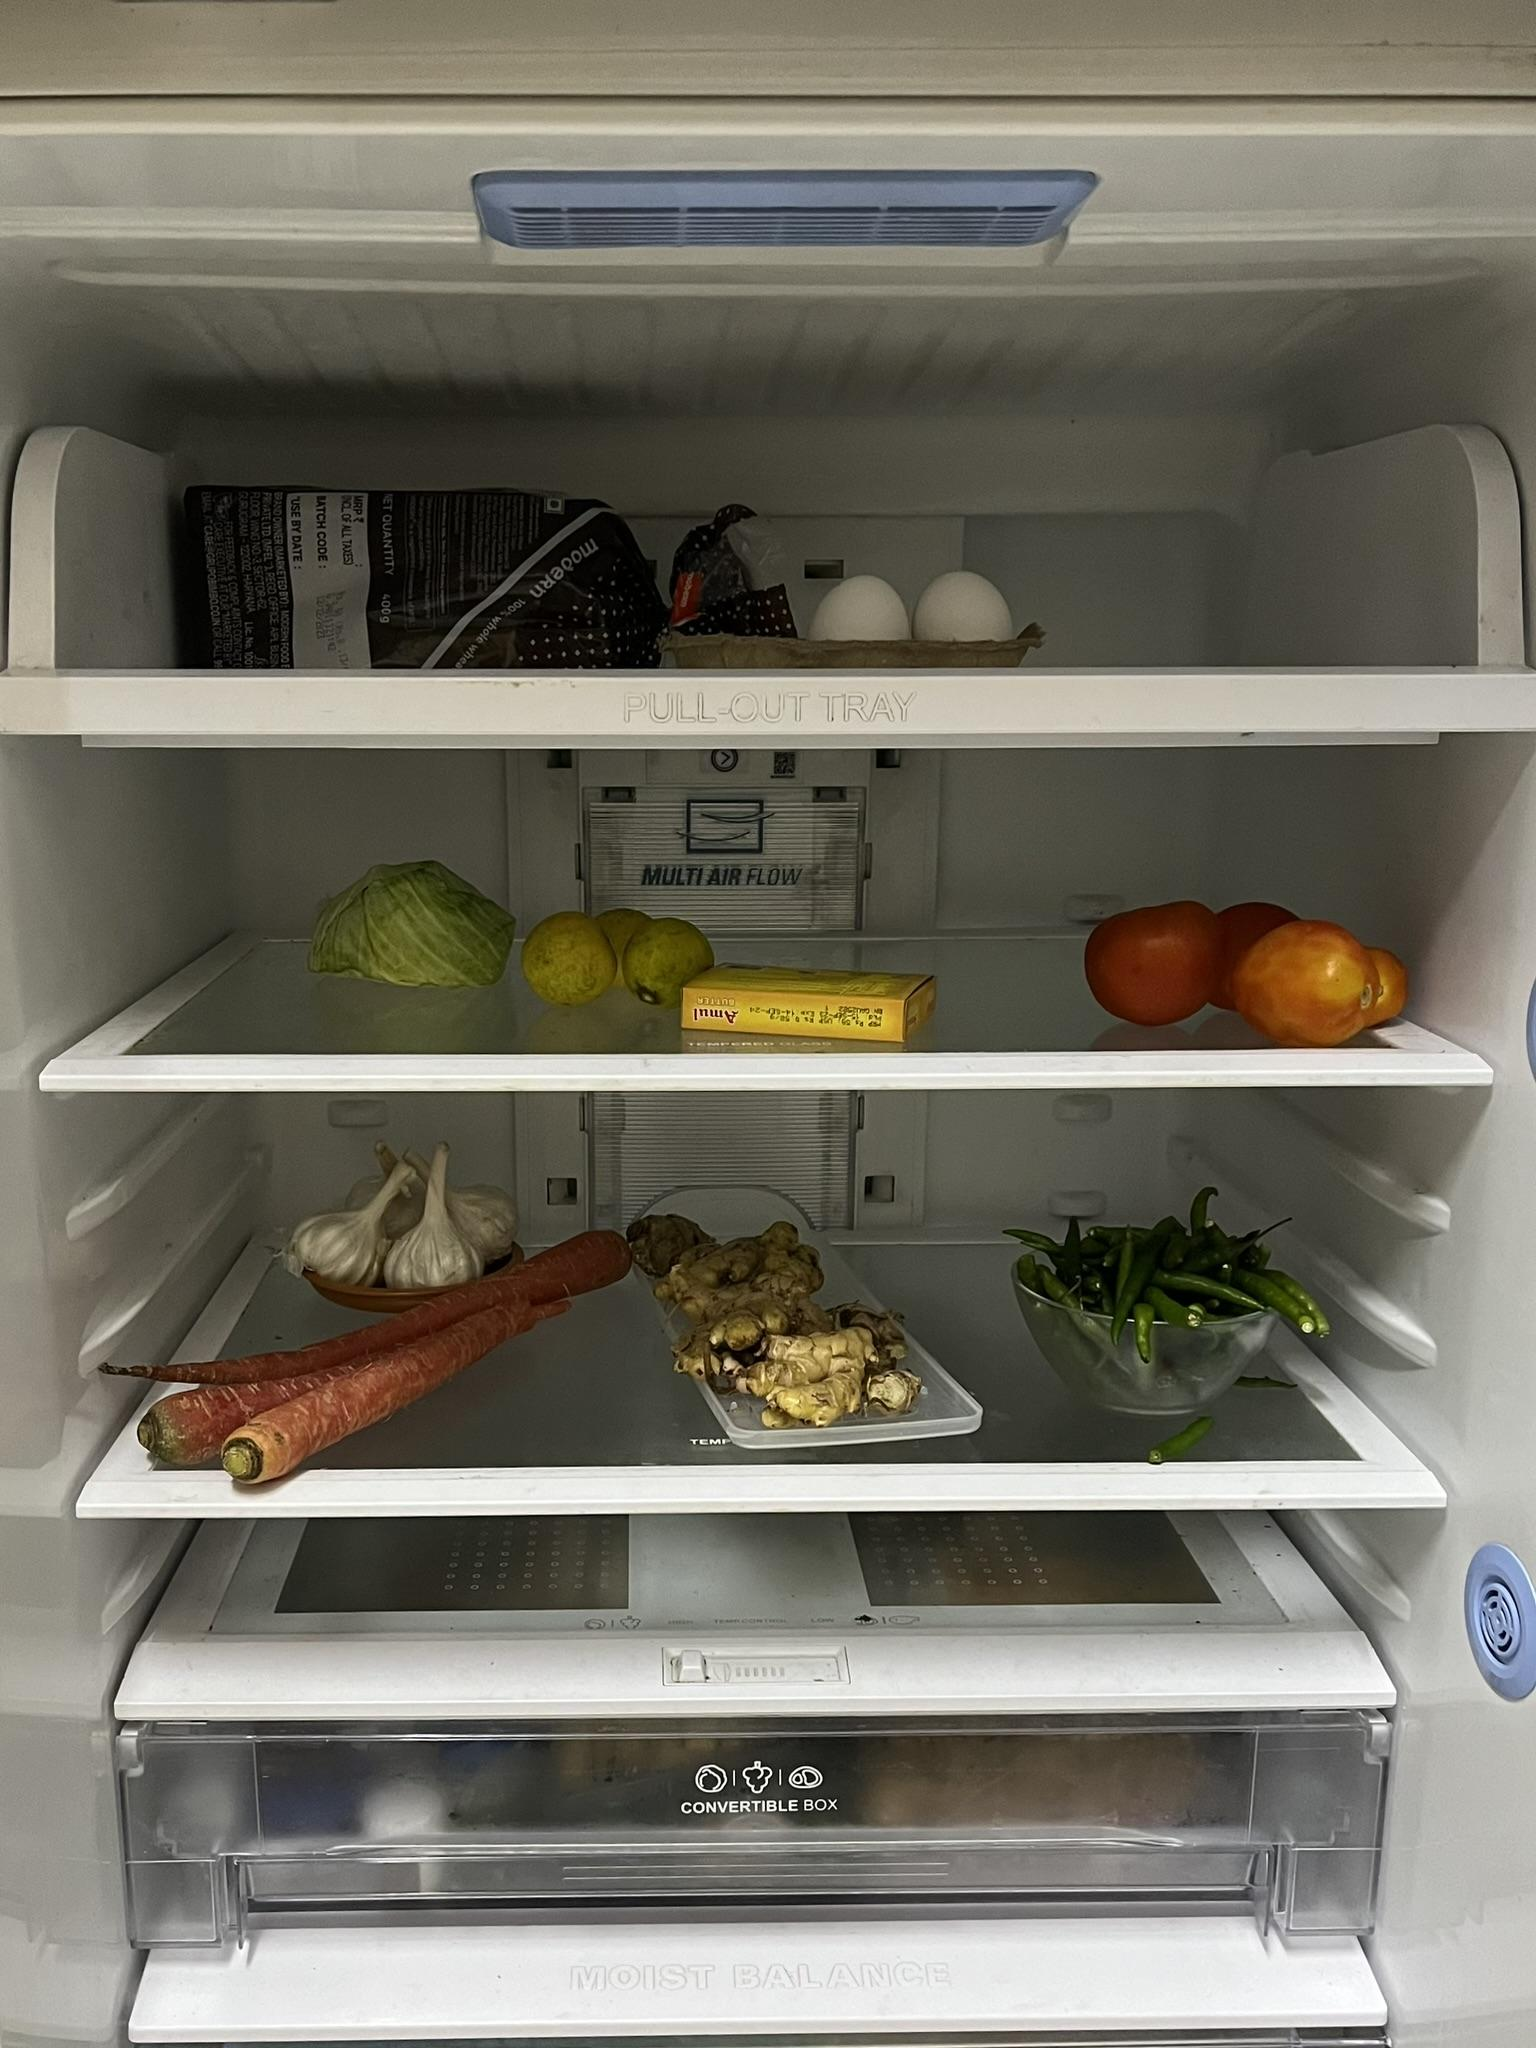bread: (187, 481, 750, 669)
butter: (673, 963, 941, 1043)
cabbage: (300, 860, 516, 987)
carrots: (123, 1216, 620, 1477)
chillies: (1023, 1190, 1307, 1427)
egg: (813, 569, 1020, 647)
garlic: (294, 1147, 510, 1290)
ginger: (637, 1209, 923, 1424)
lemon: (523, 910, 700, 1009)
tomato: (1091, 897, 1417, 1040)
